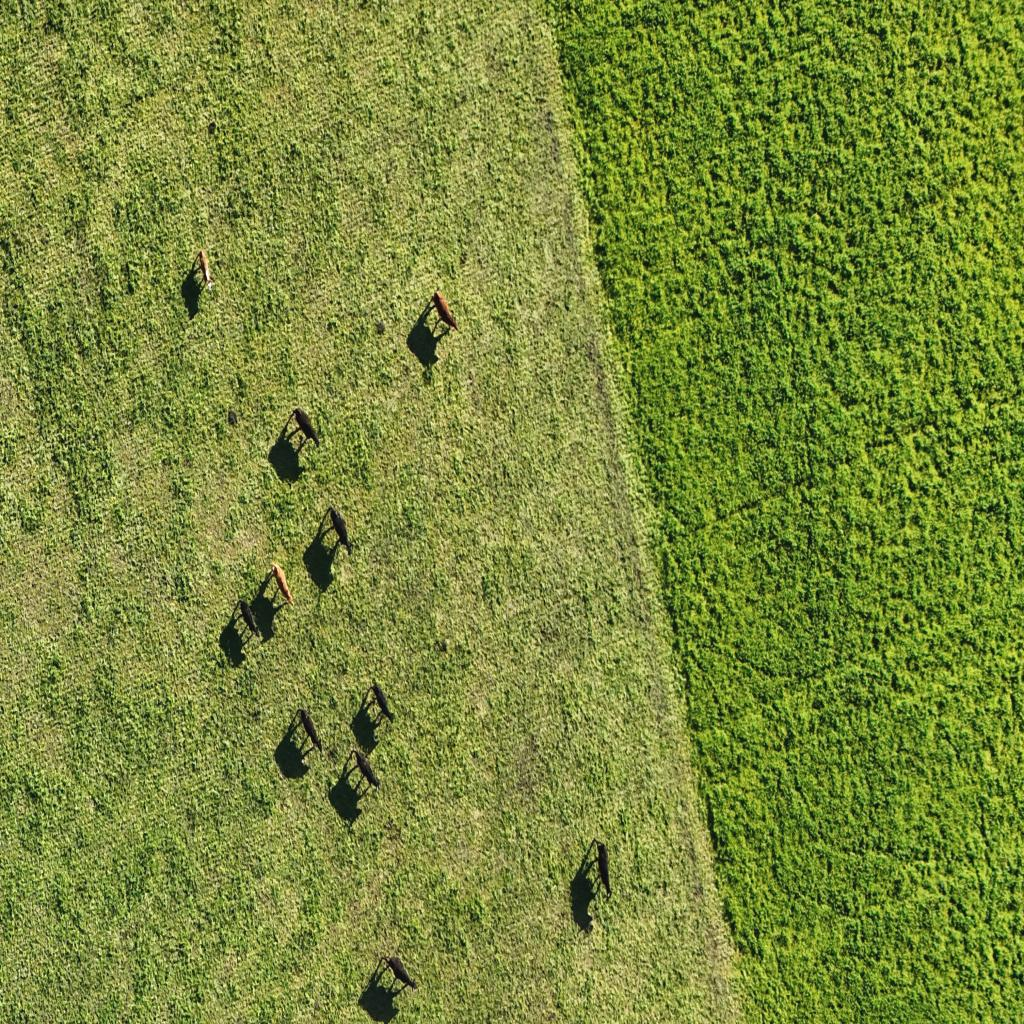cow: (382, 952, 422, 994), (430, 286, 464, 335), (350, 744, 382, 796), (370, 674, 400, 728), (296, 706, 326, 755), (287, 407, 321, 449), (270, 562, 298, 612), (235, 596, 264, 640), (328, 502, 353, 552), (594, 840, 612, 900), (196, 246, 216, 292)
